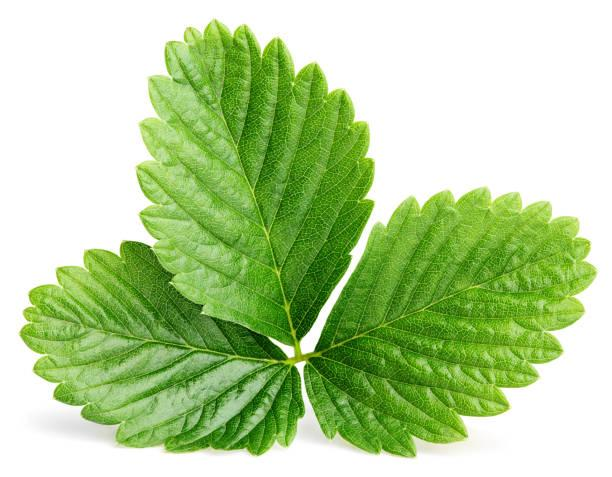Strawberry leaf: (305, 179, 610, 462), (132, 15, 381, 353), (18, 212, 302, 458)
